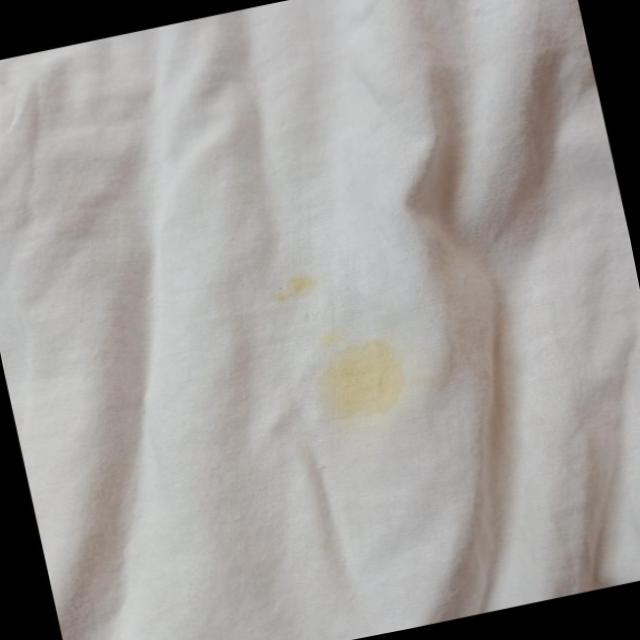stain: (285, 316, 427, 438), (261, 255, 333, 310)
